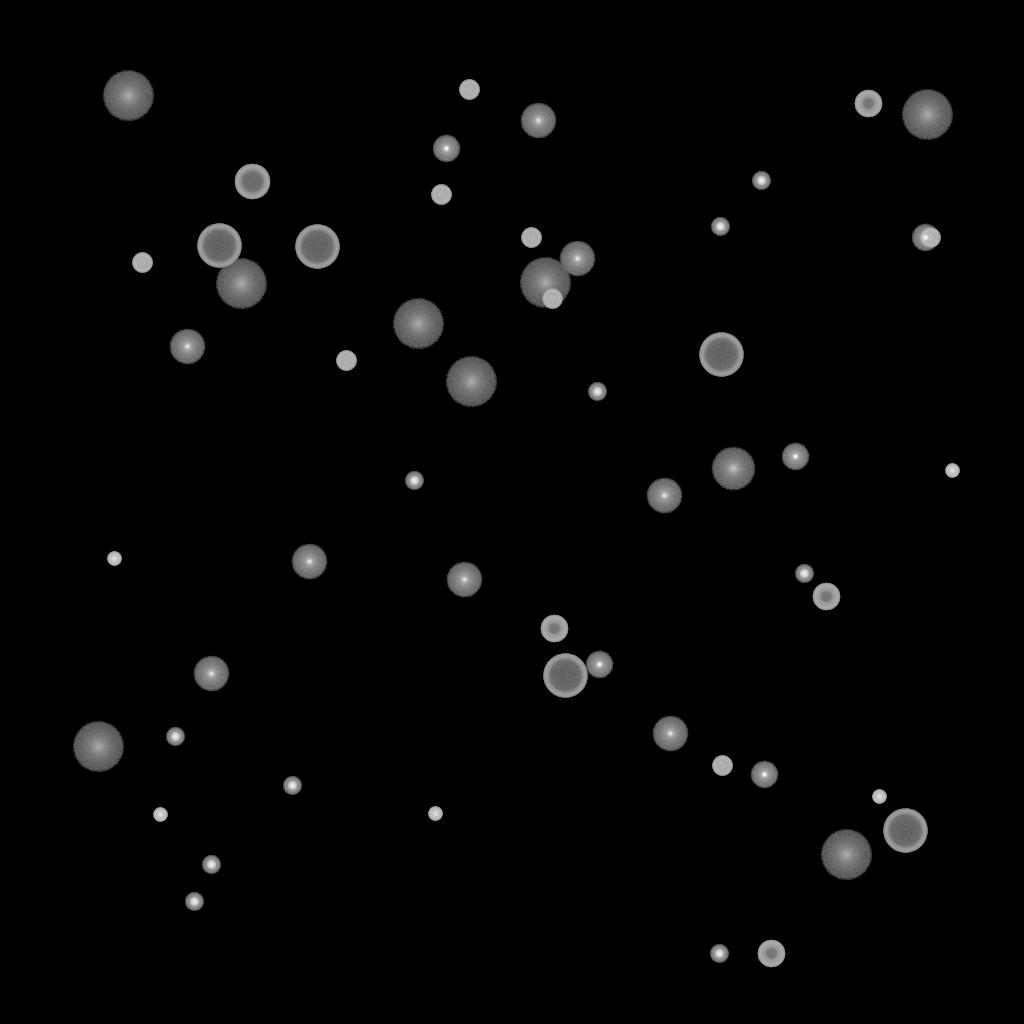depth:-10: (750, 761, 778, 789), (781, 443, 809, 471), (585, 651, 613, 679), (432, 135, 460, 163), (911, 224, 939, 252)
depth:-20: (588, 383, 606, 401), (711, 218, 729, 236), (795, 565, 813, 583), (405, 472, 423, 490), (202, 856, 220, 874), (710, 945, 728, 963), (752, 172, 770, 190), (283, 777, 301, 795), (166, 728, 184, 746), (185, 893, 203, 911)
depth:-30: (872, 790, 886, 804), (428, 807, 442, 821), (945, 464, 959, 478), (153, 808, 167, 822), (107, 552, 121, 566)
depth:-40: (336, 351, 356, 371), (431, 185, 451, 205), (920, 228, 940, 248), (521, 228, 541, 248), (542, 289, 562, 309), (712, 756, 732, 776), (459, 80, 479, 100), (132, 253, 152, 273)
depth:-50: (854, 90, 882, 118), (812, 583, 840, 611), (757, 940, 785, 968), (540, 615, 568, 643)
depth:-60: (234, 164, 270, 200)
depth:-70: (295, 225, 339, 269), (883, 809, 927, 853), (699, 333, 743, 377), (543, 654, 587, 698), (197, 224, 241, 268)
depth:0: (559, 241, 595, 277), (652, 716, 688, 752), (446, 562, 482, 598), (193, 656, 229, 692), (520, 103, 556, 139), (291, 544, 327, 580), (646, 478, 682, 514), (169, 329, 205, 365)
depth:10: (711, 447, 755, 491)
depth:20: (72, 722, 124, 772), (215, 259, 267, 309), (392, 299, 444, 349), (820, 830, 872, 880), (445, 357, 497, 407), (102, 71, 154, 121), (519, 258, 571, 308), (901, 90, 953, 140)
